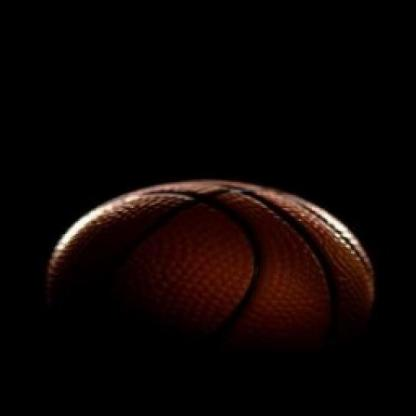basketball: (42, 170, 388, 416)
